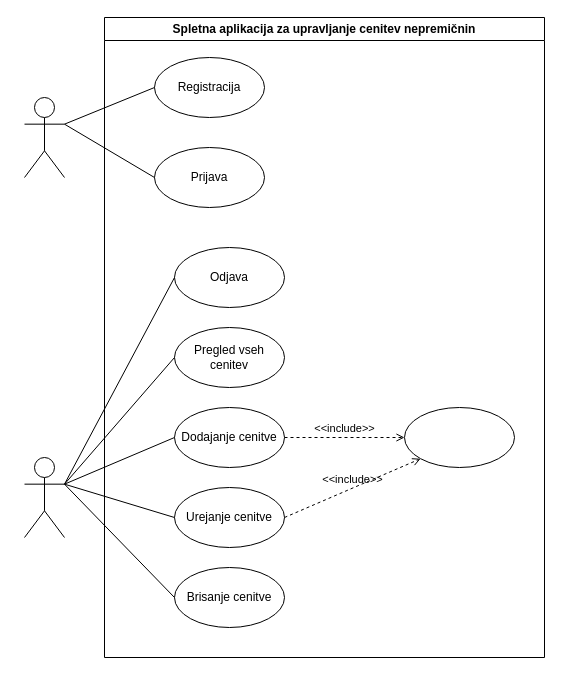
Some shapes in this 562 by 675 pixel diagram are drawn without their labels. Each missing label, with the box of its shape:
Gost: (24, 96, 64, 178)
Uporabnik: (24, 456, 64, 538)
Vnos podatkov cenitve: (404, 406, 514, 468)
